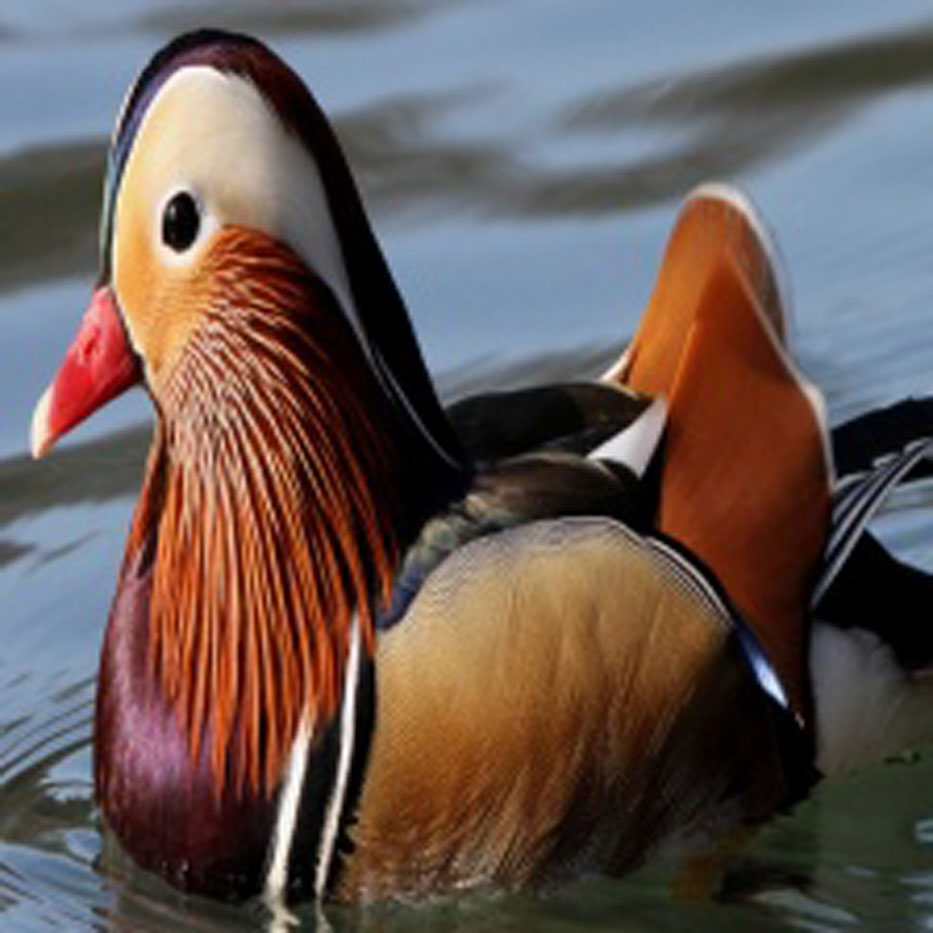Mencari Makan di Lumpur: (17, 285, 156, 474)
